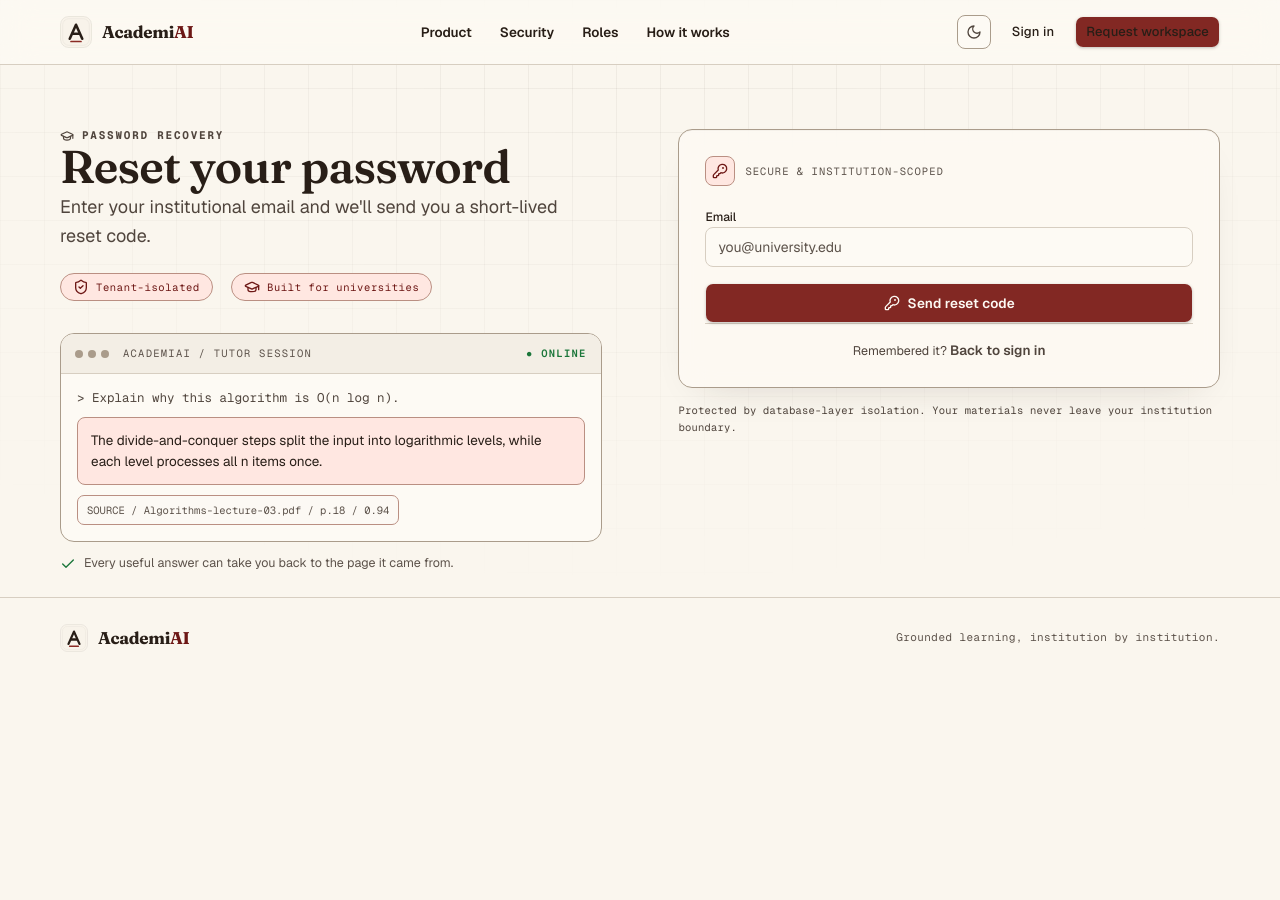
it: PasswordResetPage 6-digit code › refuses to submit a code that is not exactly 6 digits
Type "stud@uni.edu" into the field labelled "Email" at (949, 247), box x1=705 y1=227 x2=1193 y2=267
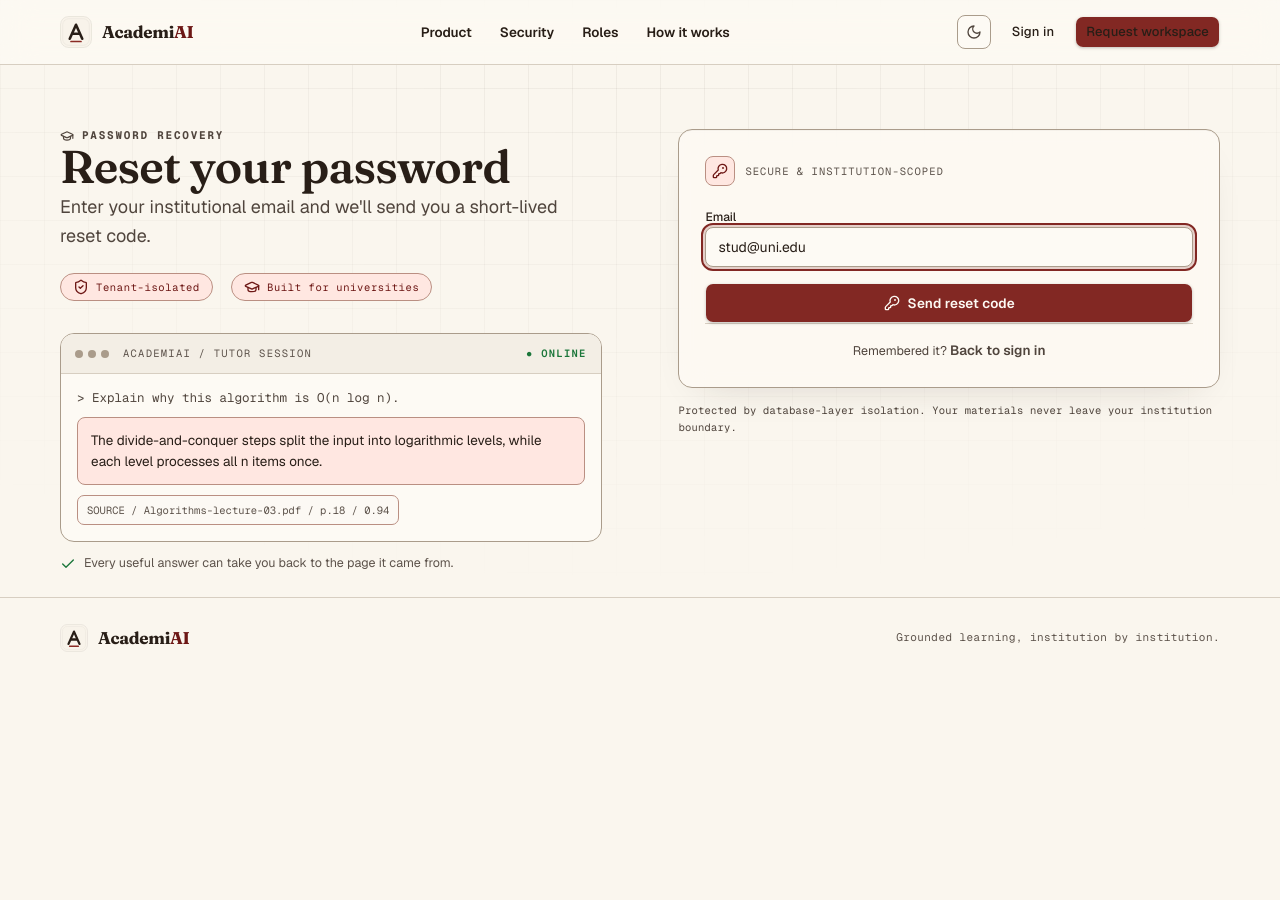
Click the button "Send reset code" at (949, 303), box x1=705 y1=283 x2=1193 y2=323
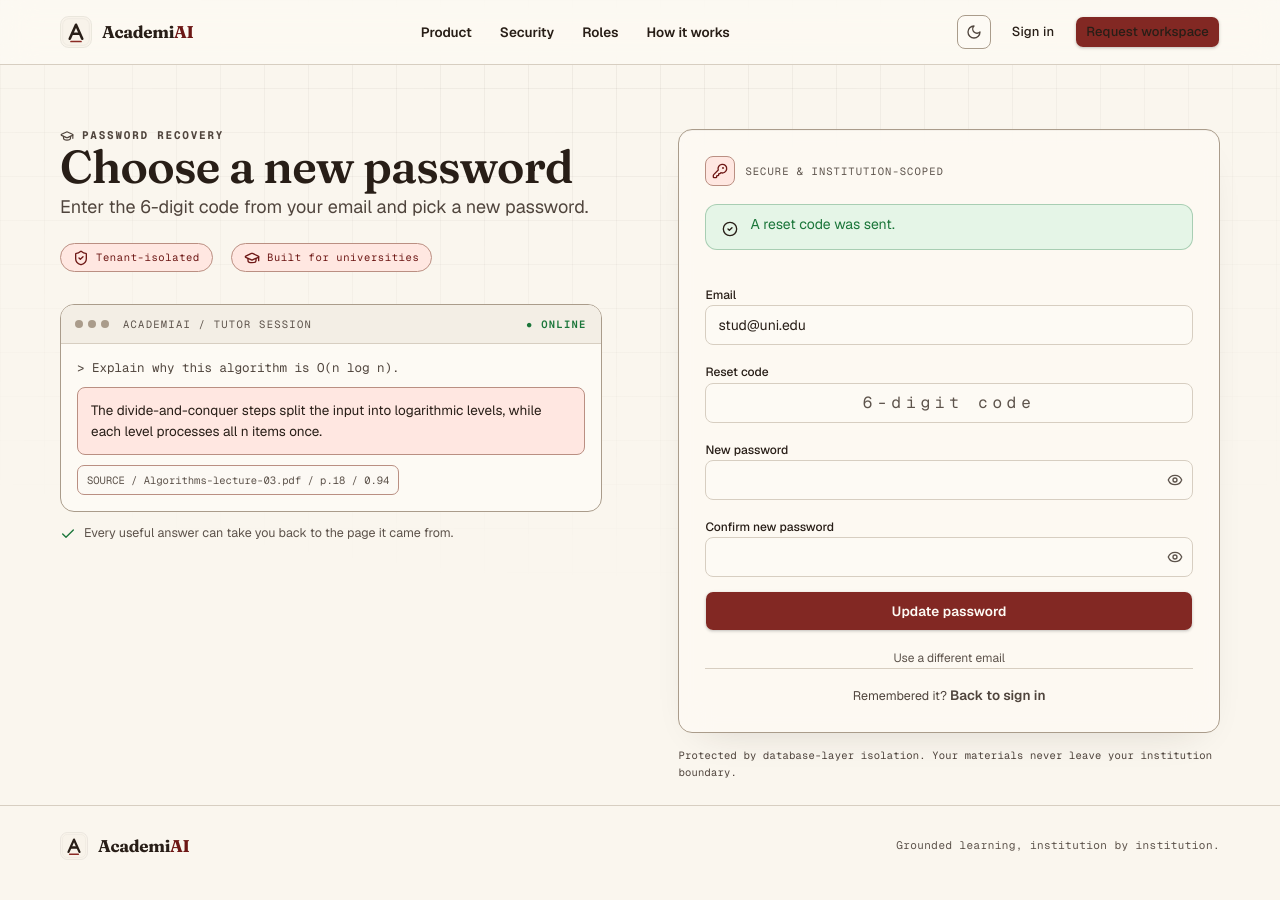
Expected: the field labelled "Reset code" is shown
Type "12345" into the field labelled "Reset code" at (949, 402), box x1=705 y1=382 x2=1193 y2=422
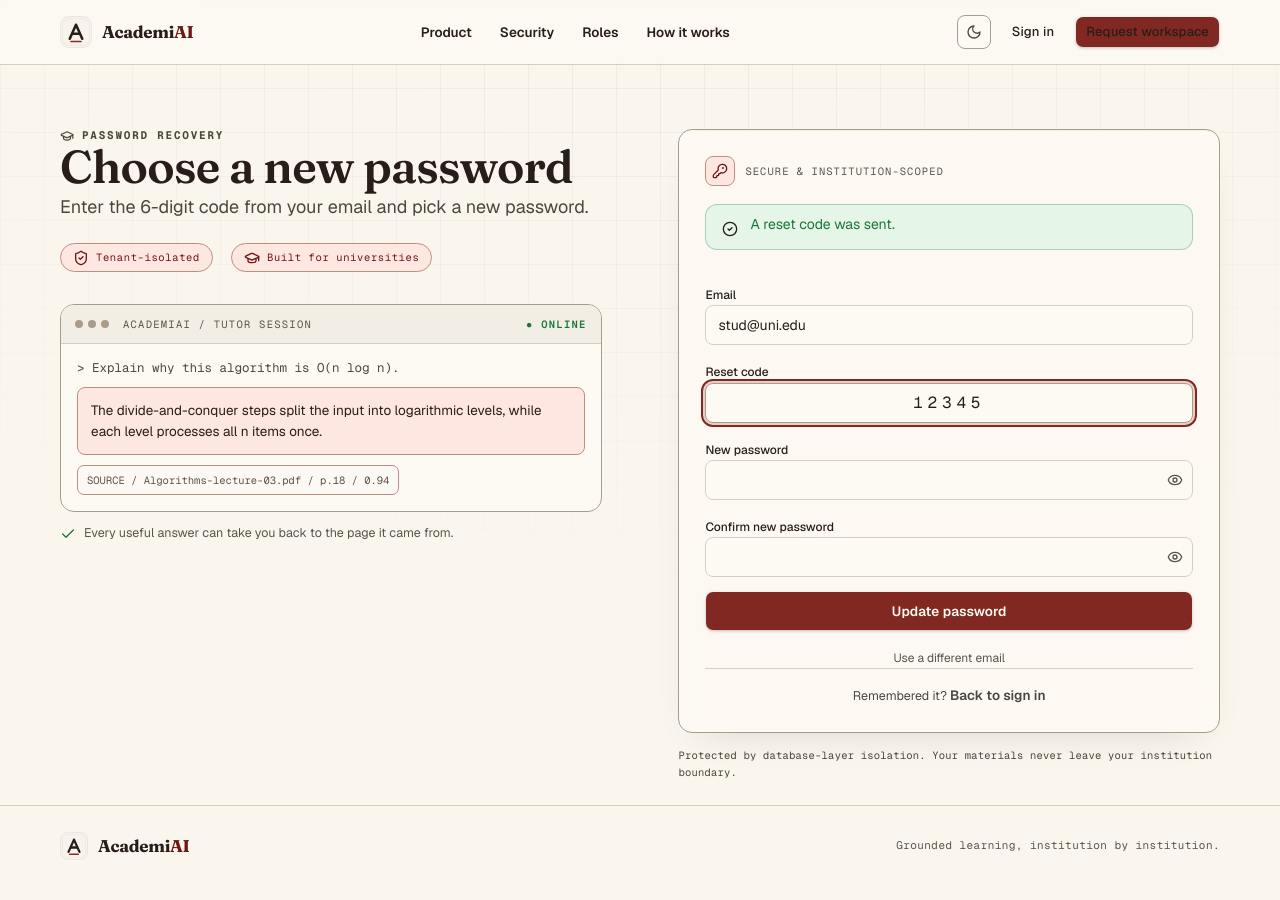
Type "BrandNew!2026pw" into the password field labelled "New password" at (949, 480), box x1=705 y1=460 x2=1193 y2=500
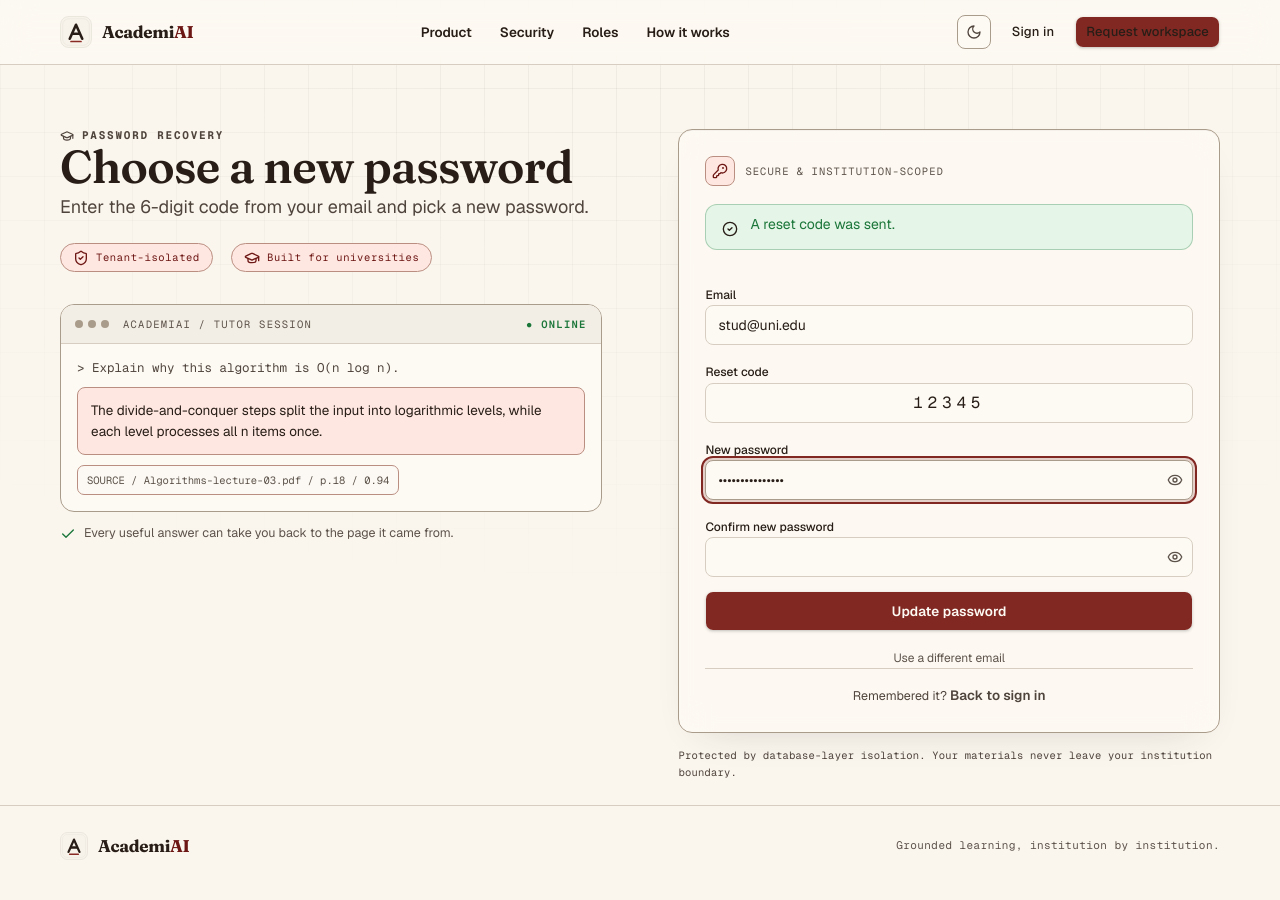
Type "BrandNew!2026pw" into the password field labelled "Confirm new password" at (949, 557), box x1=705 y1=537 x2=1193 y2=577
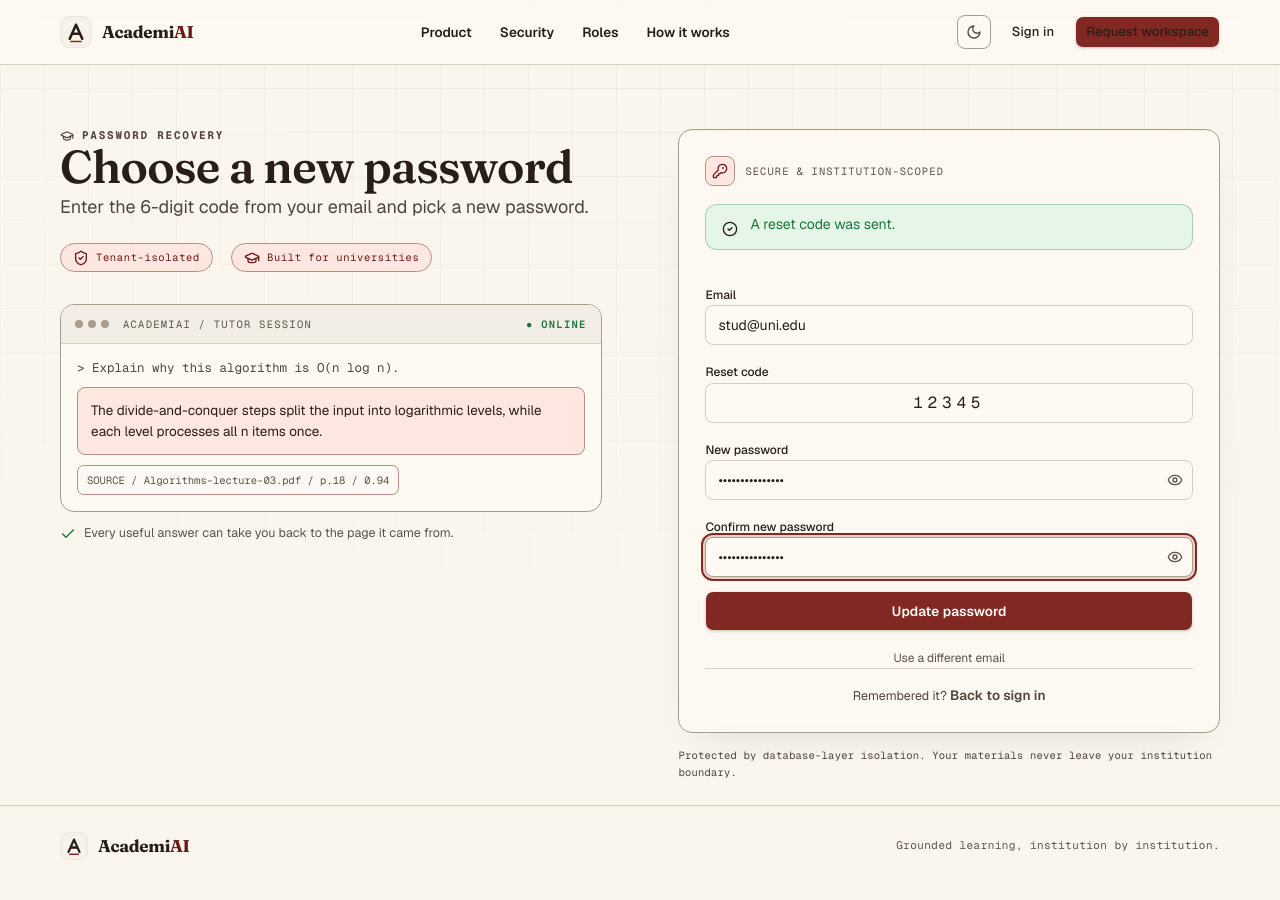
Click the button "Update password" at (949, 611), box x1=705 y1=591 x2=1193 y2=631
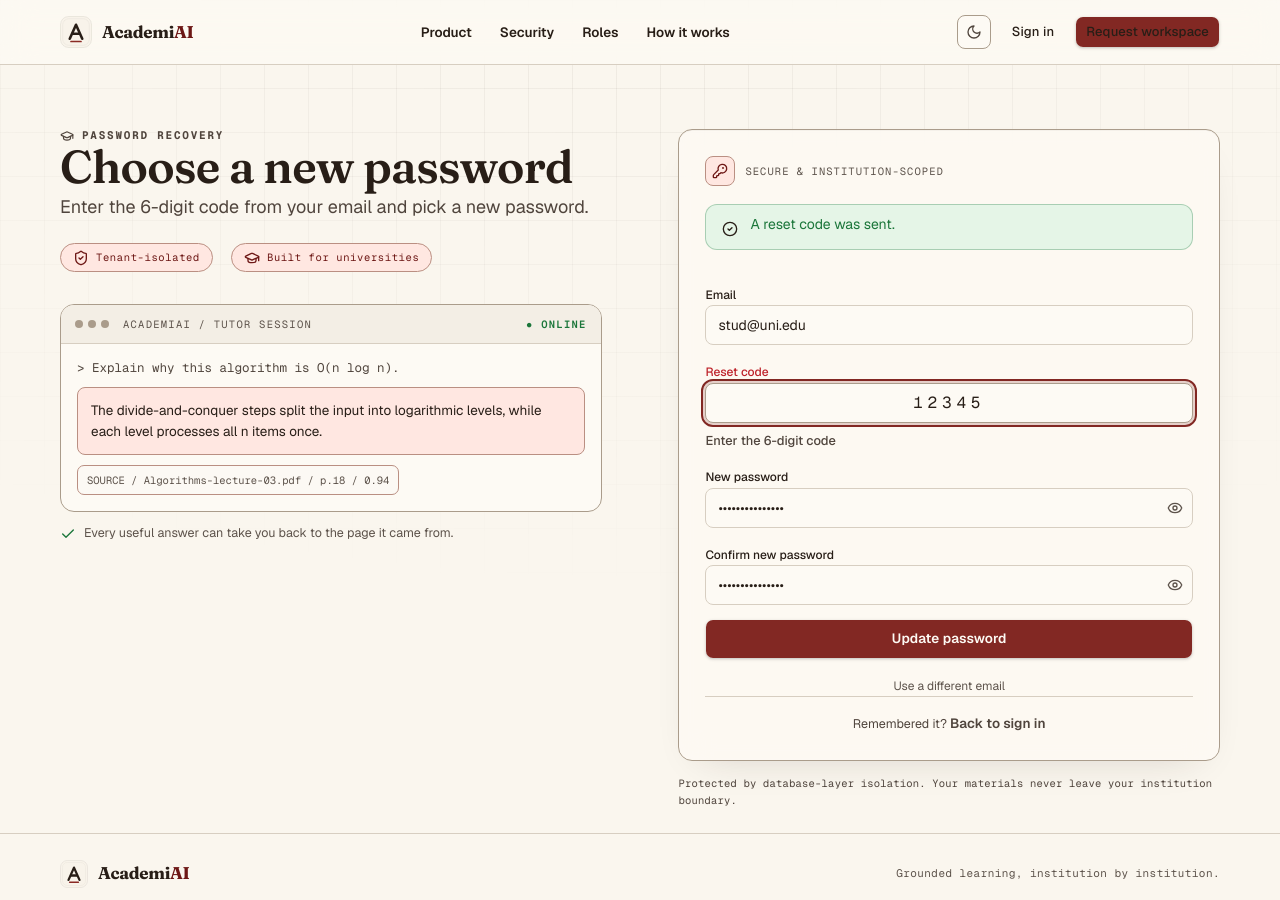
Expected: the text "Enter the 6-digit code" is shown, x1=705 y1=432 x2=836 y2=448
